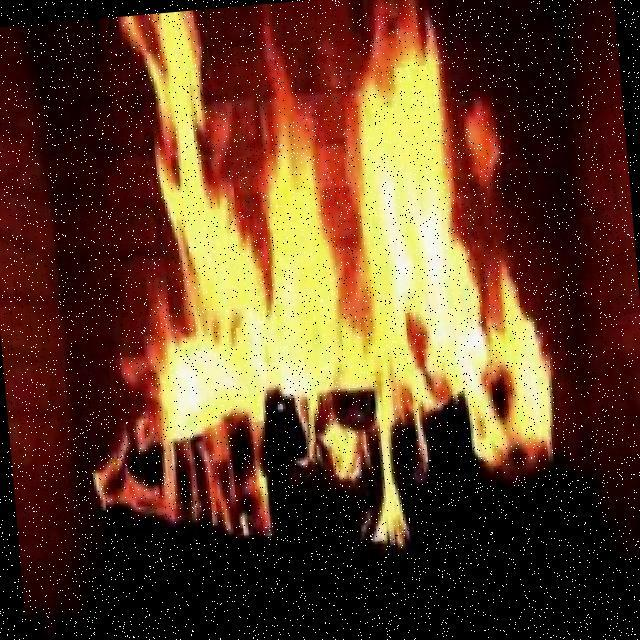Fire: (133, 13, 544, 480)
